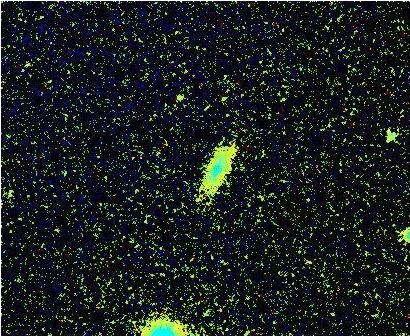star: (166, 80, 196, 110)
